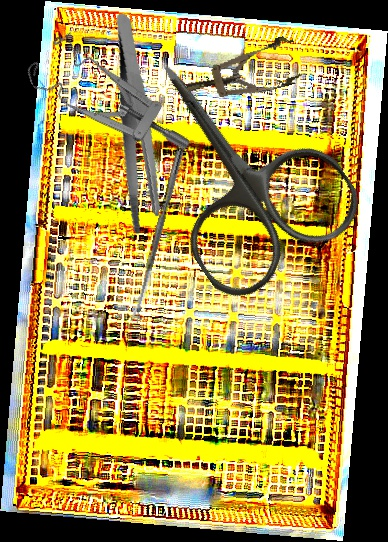Dressing Forceps: (84, 13, 189, 237)
Iris Scissors: (96, 16, 372, 310)
Speculum: (18, 10, 192, 200), (180, 33, 305, 112)
Surgical Spoon: (129, 147, 185, 323)
